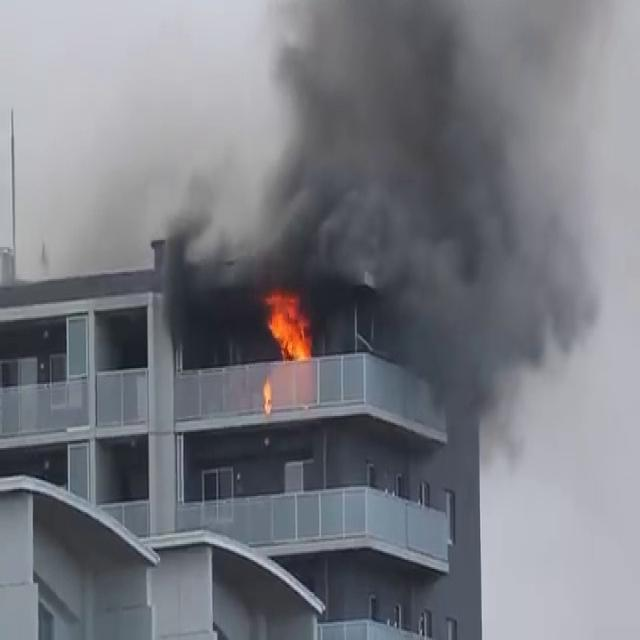Fire: (257, 282, 317, 364)
Smoke: (129, 0, 639, 380)
